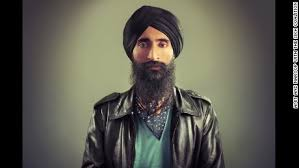helmet: (119, 5, 184, 90)
